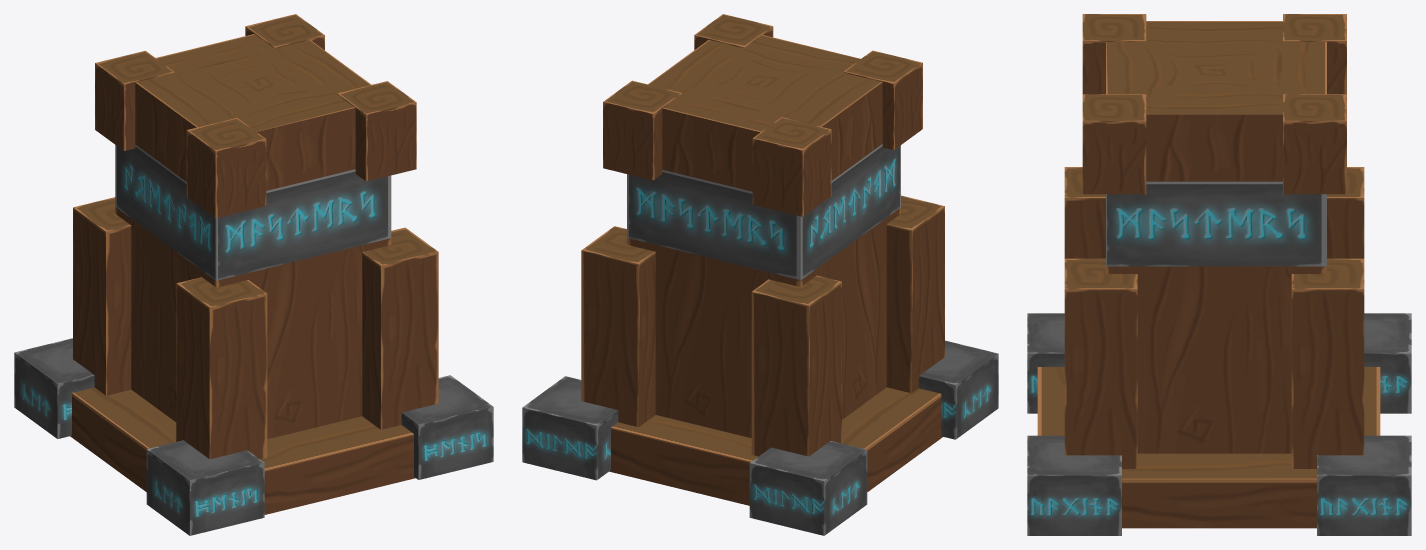
The model's file is Tower Base.FBX.
The picture shows the model from 3 angles, left to right: view 1: azimuth 30°, elevation 25°; view 2: azimuth 150°, elevation 25°; view 3: azimuth 270°, elevation 25°; orthographic projection. The views are drawn at different scales.
Parts seen in each view (by area): view 1: Box254; view 2: Box254; view 3: Box254.
Boxes of the visible parts, x1,y1,x2,y2 form: Box254: [14, 14, 493, 535]; Box254: [522, 14, 998, 535]; Box254: [1027, 14, 1411, 535].
Bounding box in the file's own units: 44.79 × 50.1 × 44.81.
